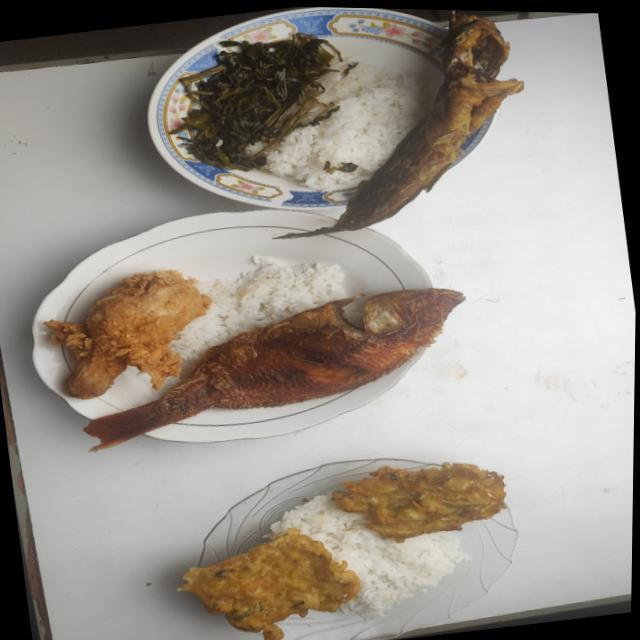ikan_mujair: (84, 289, 464, 450)
nasi_putih: (276, 497, 471, 619), (266, 65, 416, 190), (171, 256, 345, 361)
tumis_kangkung: (171, 34, 343, 171)
